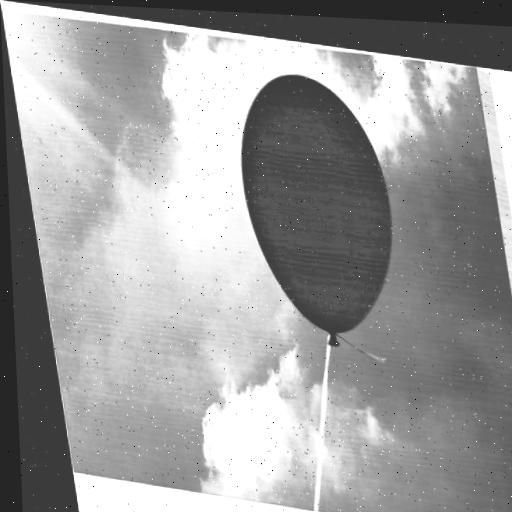balloon: (216, 46, 415, 368)
